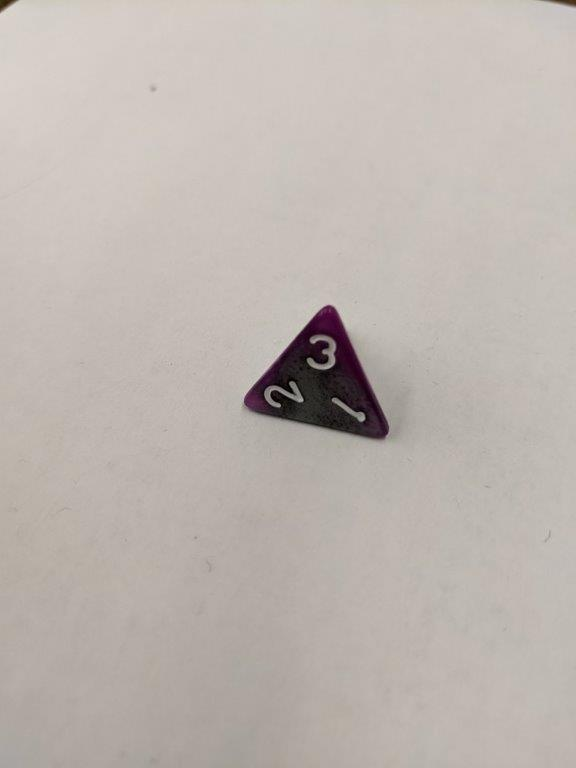d4-3: (245, 302, 397, 446)
